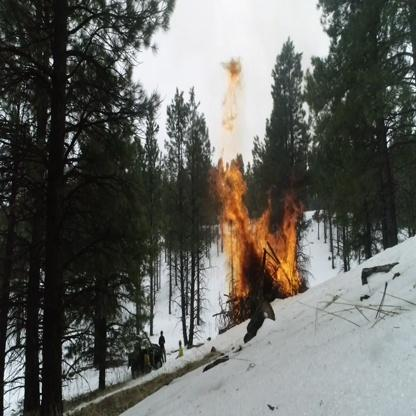Fire: (211, 55, 306, 324)
